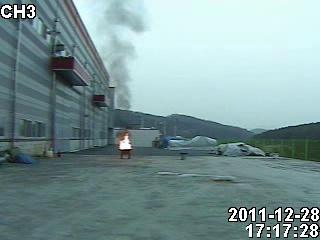fire: (118, 129, 133, 152)
smoke: (95, 2, 144, 117)
